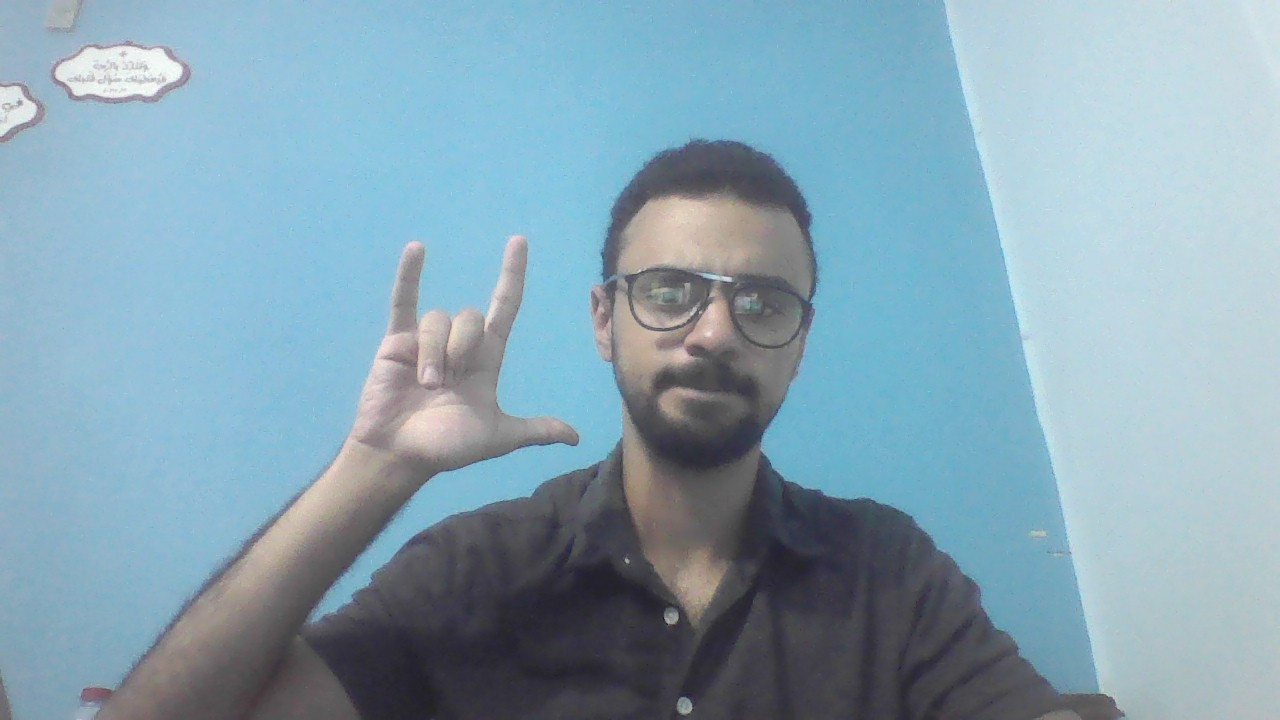love: (364, 236, 581, 476)
